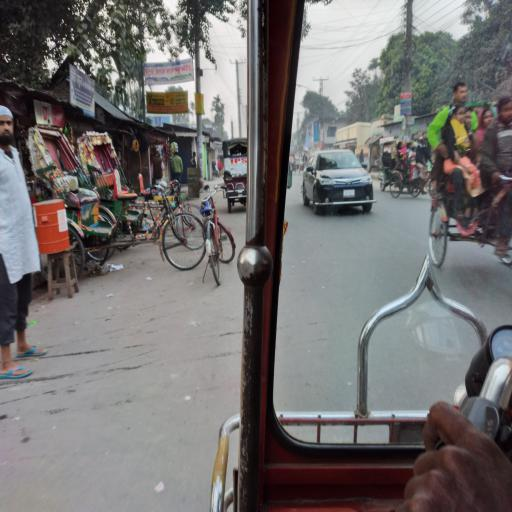auto rickshaw: (223, 139, 251, 215), (380, 141, 395, 193)
bicycle: (203, 184, 237, 288)
car: (301, 150, 380, 217)
rickshaw: (25, 123, 207, 274), (429, 81, 512, 276), (77, 132, 207, 254), (391, 138, 439, 199), (299, 153, 311, 176), (289, 152, 297, 176)
